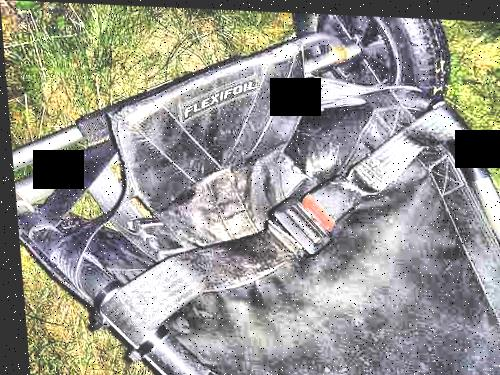seatbelt: (93, 90, 475, 360)
